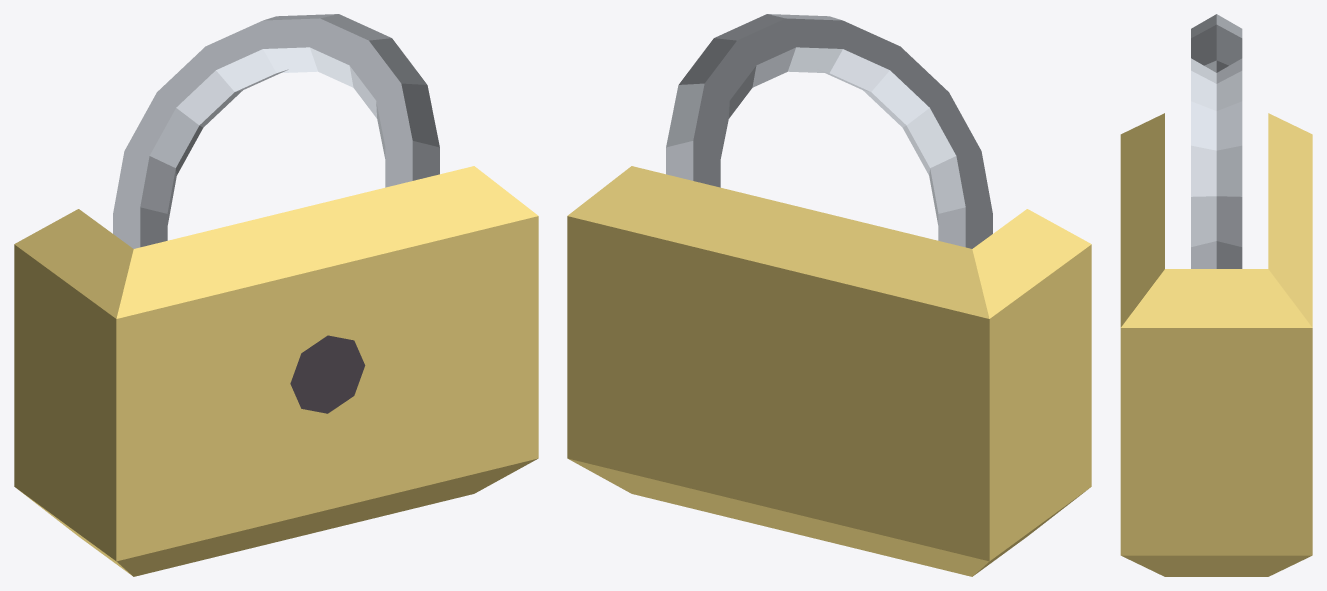
The model's file is padlock.glb.
3 views of the same model, side by side, from view 1: azimuth 30°, elevation 25°; view 2: azimuth 150°, elevation 25°; view 3: azimuth 270°, elevation 25° (orthographic). The views are drawn at different scales.
Visible parts, largest first — view 1: padlock body, padlock shackle, padlock keyhole; view 2: padlock body, padlock shackle; view 3: padlock body, padlock shackle.
Part boxes in pixels (x1,y1,x2,y2): padlock body: (14,166,538,576); padlock shackle: (113,14,439,248); padlock keyhole: (290,335,365,413); padlock body: (567,166,1091,576); padlock shackle: (666,14,992,248); padlock body: (1120,113,1312,576); padlock shackle: (1191,14,1242,268).
Bounding box in the file's own units: 0.62 × 0.7 × 0.2605.
